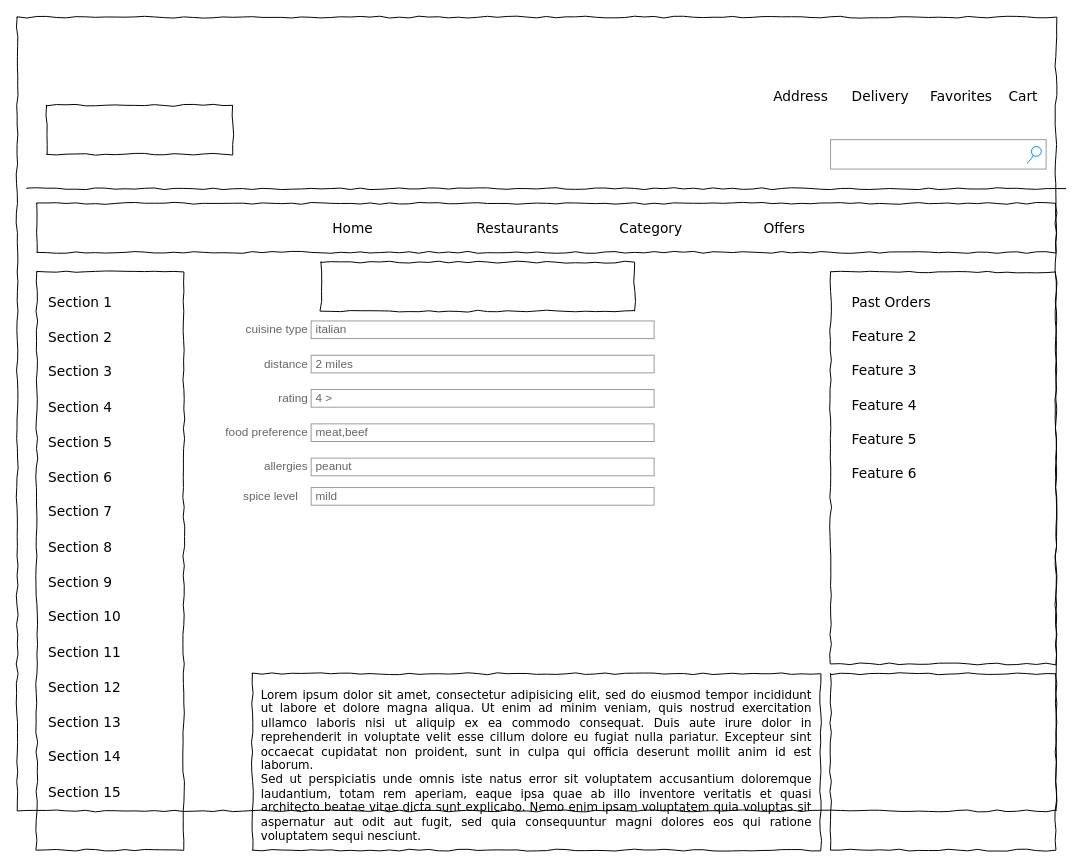
The diagram is 1083 pixels wide and 867 high, and some of its shapes have lost their labels. Here are the shapes that lost their labels. From the top down, the centre of each, then its label:
At [139,129]: "JAVA CHIPS".
At [938,154]: "Search".
At [477,286]: "Food Preferences".
At [943,761]: "External Links".
